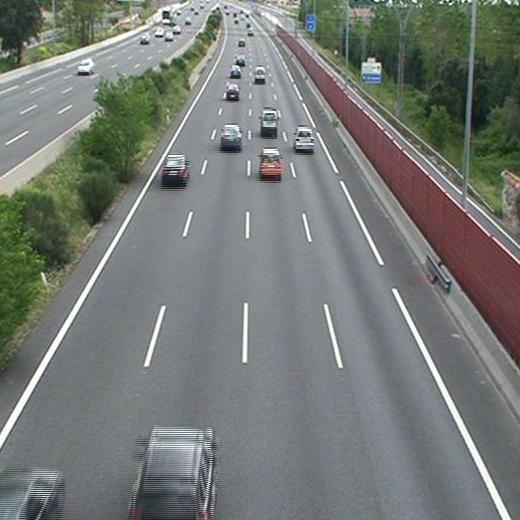car: (132, 427, 215, 519), (162, 155, 188, 181), (259, 149, 281, 174), (220, 124, 242, 146), (294, 128, 314, 151), (226, 84, 240, 98), (230, 67, 241, 78), (235, 55, 246, 65), (238, 37, 245, 47)
van: (260, 110, 278, 133), (255, 67, 266, 85)
